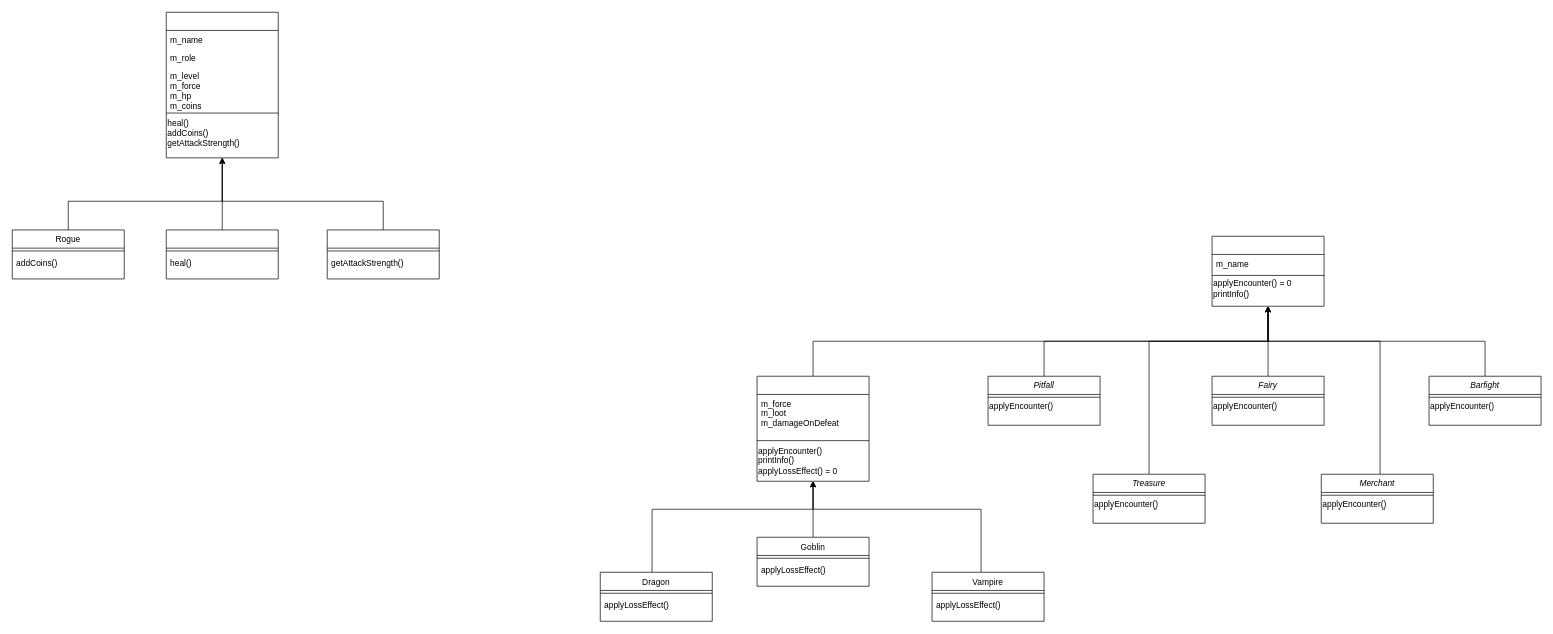
Some shapes in this 1553 by 634 pixel diagram are drawn without their labels. Here are the shapes that lost their labels. From the top down, the box of each, then its label:
(166, 12, 278, 158): Player
(166, 229, 278, 279): Wizard
(327, 229, 439, 279): Fighter
(1211, 236, 1324, 306): Card
(756, 376, 869, 481): Battle
